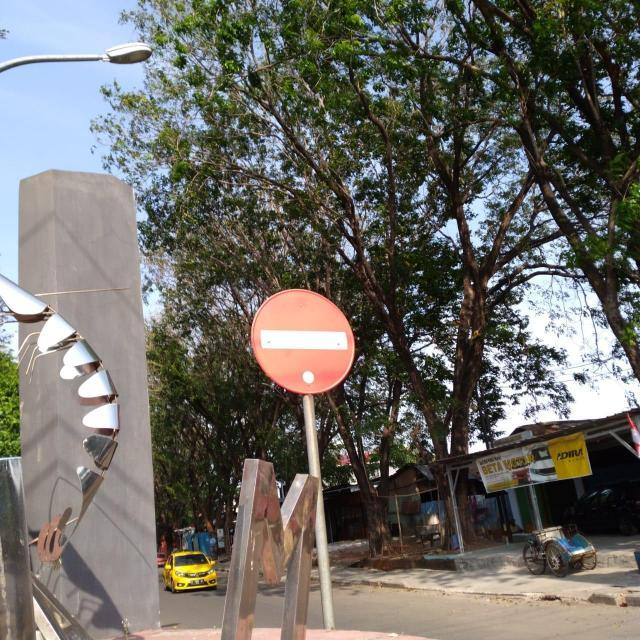traffic sign: (250, 287, 359, 394)
